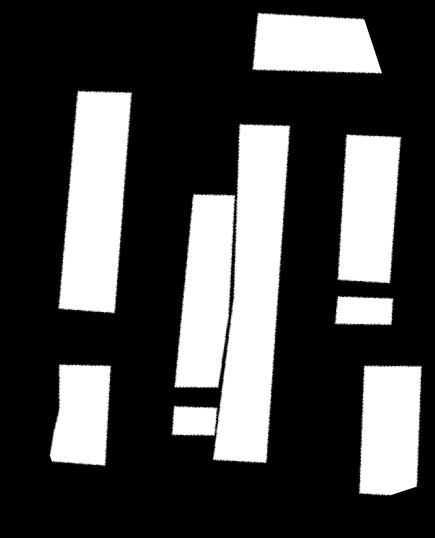parkingspot: (213, 124, 290, 463), (58, 91, 132, 313), (174, 194, 235, 388), (337, 134, 401, 283), (359, 365, 422, 495), (252, 13, 382, 74), (50, 364, 111, 466), (335, 296, 393, 325), (172, 406, 217, 436)
